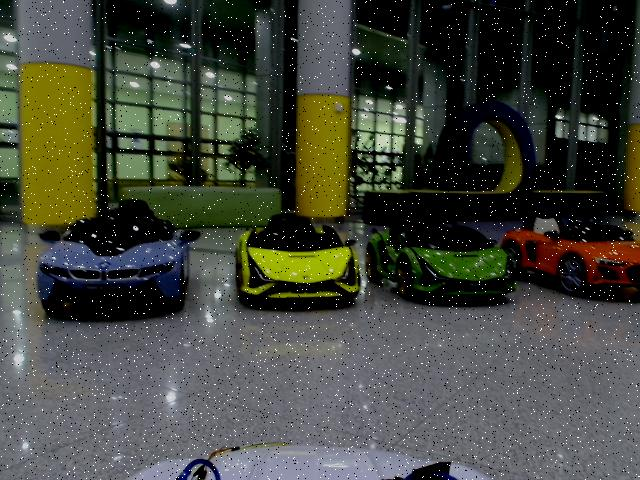car: (37, 200, 200, 314), (365, 214, 516, 299), (500, 208, 640, 294), (235, 214, 360, 306)
